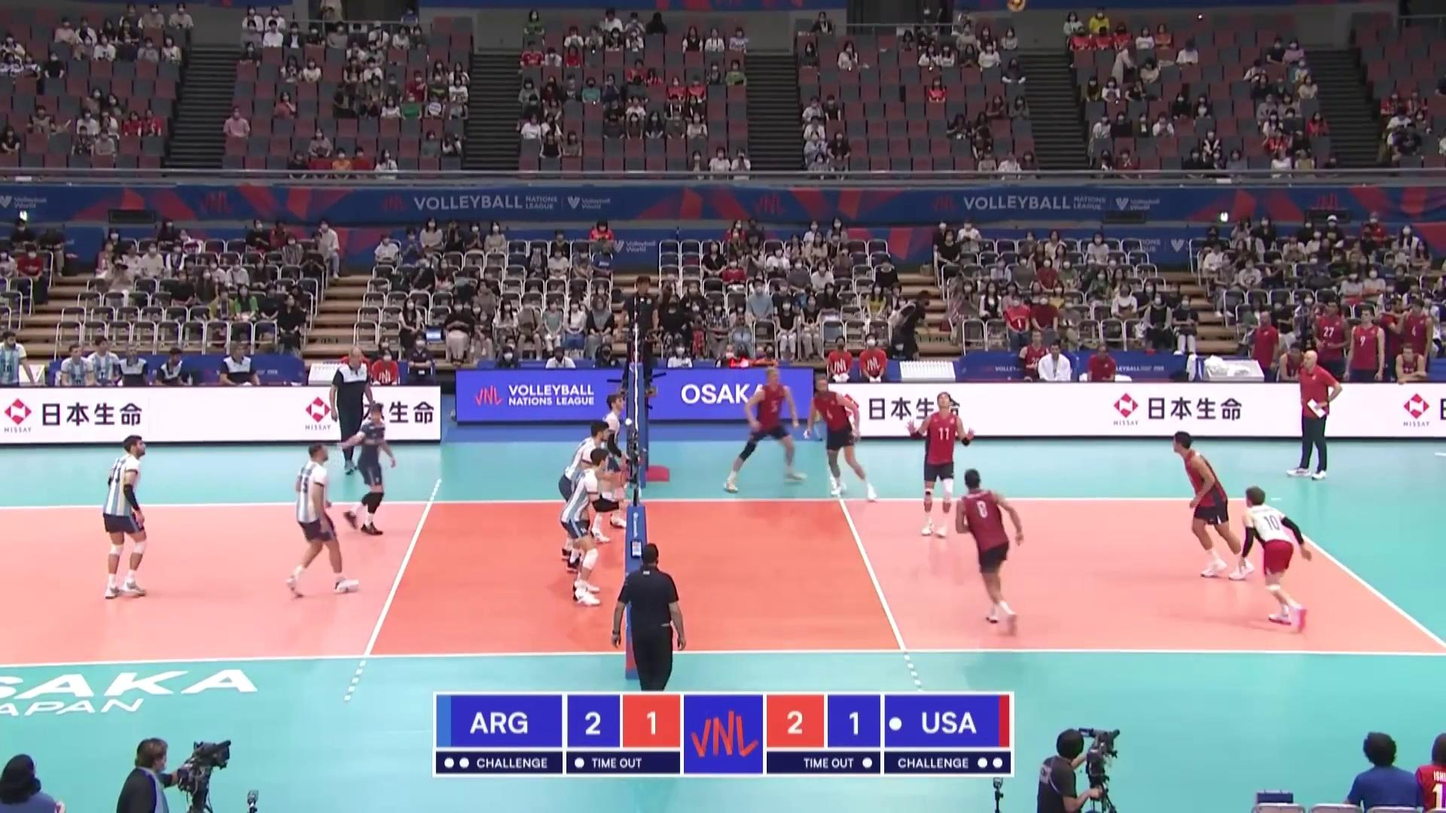player: (1169, 432, 1254, 578), (283, 444, 361, 596), (956, 470, 1024, 625), (1241, 487, 1311, 631), (559, 451, 616, 609), (726, 370, 803, 486), (808, 377, 877, 503), (556, 421, 612, 575), (913, 392, 971, 535), (100, 436, 150, 598), (345, 405, 392, 537), (588, 396, 630, 542)
refree: (613, 544, 685, 692), (617, 276, 661, 398)
